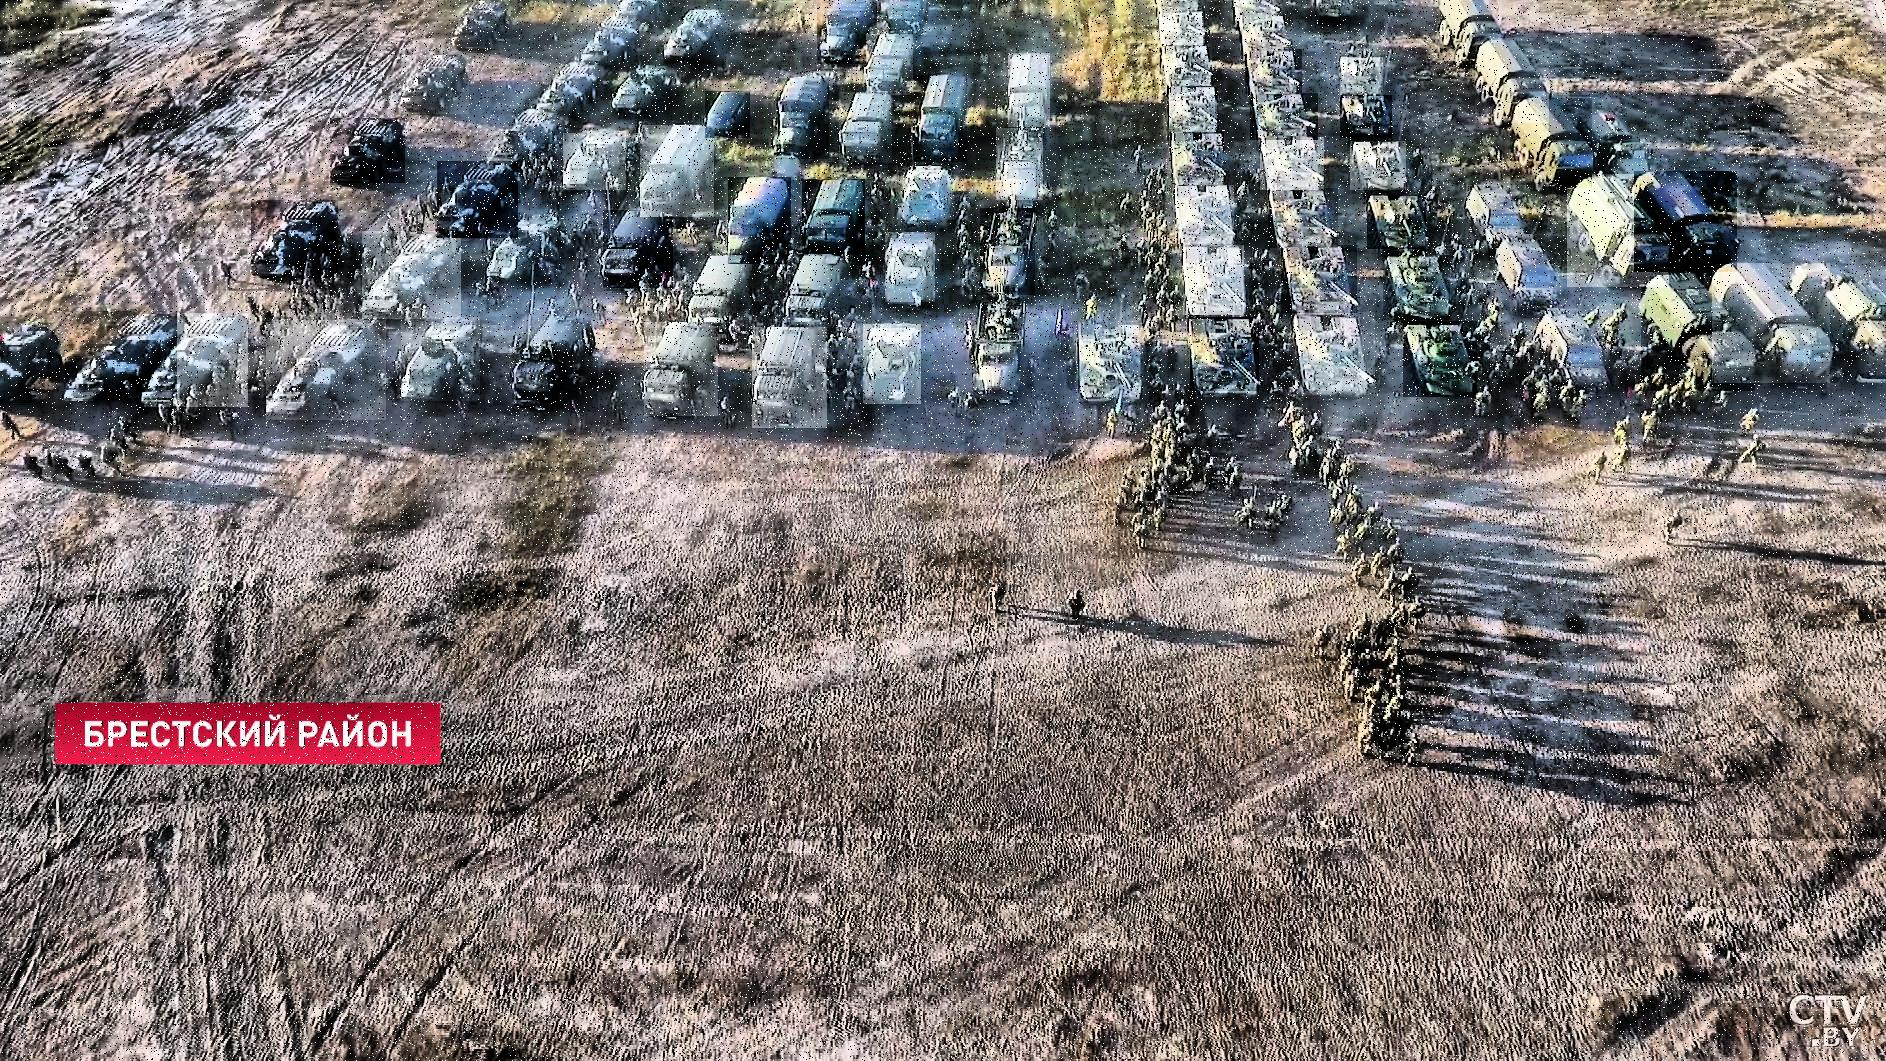military-vehicle: (1712, 264, 1830, 383), (1641, 272, 1755, 391), (267, 321, 387, 421), (1567, 175, 1670, 288), (1635, 172, 1737, 273), (65, 312, 177, 400), (144, 314, 249, 408), (361, 232, 461, 320), (513, 315, 598, 413), (753, 328, 828, 429), (1510, 98, 1592, 188), (645, 323, 719, 417), (641, 126, 715, 218), (1293, 312, 1374, 395), (251, 201, 338, 279), (402, 317, 481, 402), (1535, 310, 1610, 396), (438, 161, 519, 238), (1475, 39, 1549, 124), (973, 301, 1030, 403), (484, 215, 563, 286), (1404, 321, 1478, 396), (604, 210, 674, 289), (729, 177, 791, 264), (688, 257, 754, 338), (1078, 321, 1142, 403), (1281, 246, 1358, 314), (1190, 317, 1259, 391), (1496, 234, 1560, 314), (981, 209, 1036, 297), (330, 119, 405, 184), (802, 180, 865, 255), (863, 325, 921, 405), (915, 75, 968, 162), (1383, 257, 1451, 321), (1268, 188, 1339, 249), (1184, 245, 1245, 315), (777, 79, 829, 159), (788, 255, 846, 324), (402, 56, 470, 114), (817, 0, 877, 63), (1466, 185, 1526, 249), (839, 93, 892, 163), (563, 133, 627, 190), (885, 233, 935, 303), (1176, 185, 1234, 245), (997, 128, 1044, 201), (1260, 137, 1324, 190), (1367, 196, 1426, 250), (1250, 95, 1319, 141), (898, 167, 951, 225), (665, 10, 724, 62), (1009, 53, 1051, 127), (451, 0, 508, 51), (867, 34, 913, 95), (613, 66, 668, 117), (1351, 143, 1407, 190), (1172, 132, 1224, 181), (1245, 51, 1302, 95), (1170, 87, 1218, 133), (1341, 96, 1392, 139), (1162, 45, 1212, 88), (706, 92, 750, 139), (1341, 58, 1383, 97), (1159, 13, 1205, 45)
